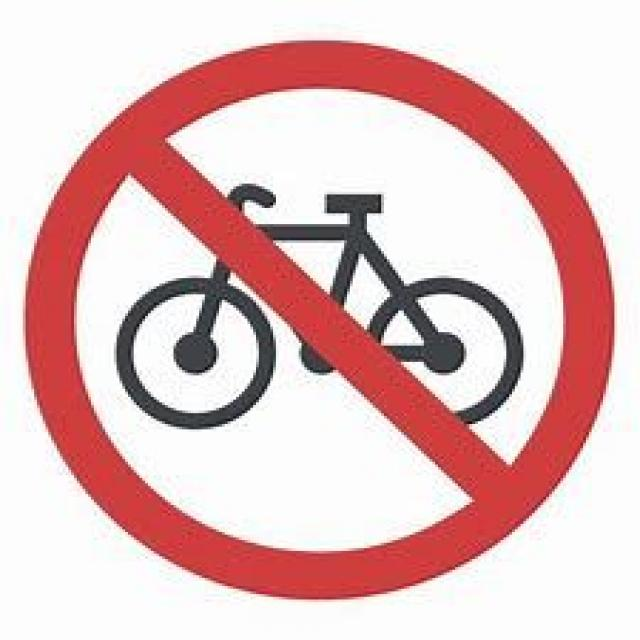CYCLE_PROHIBITED: (23, 38, 614, 599)
